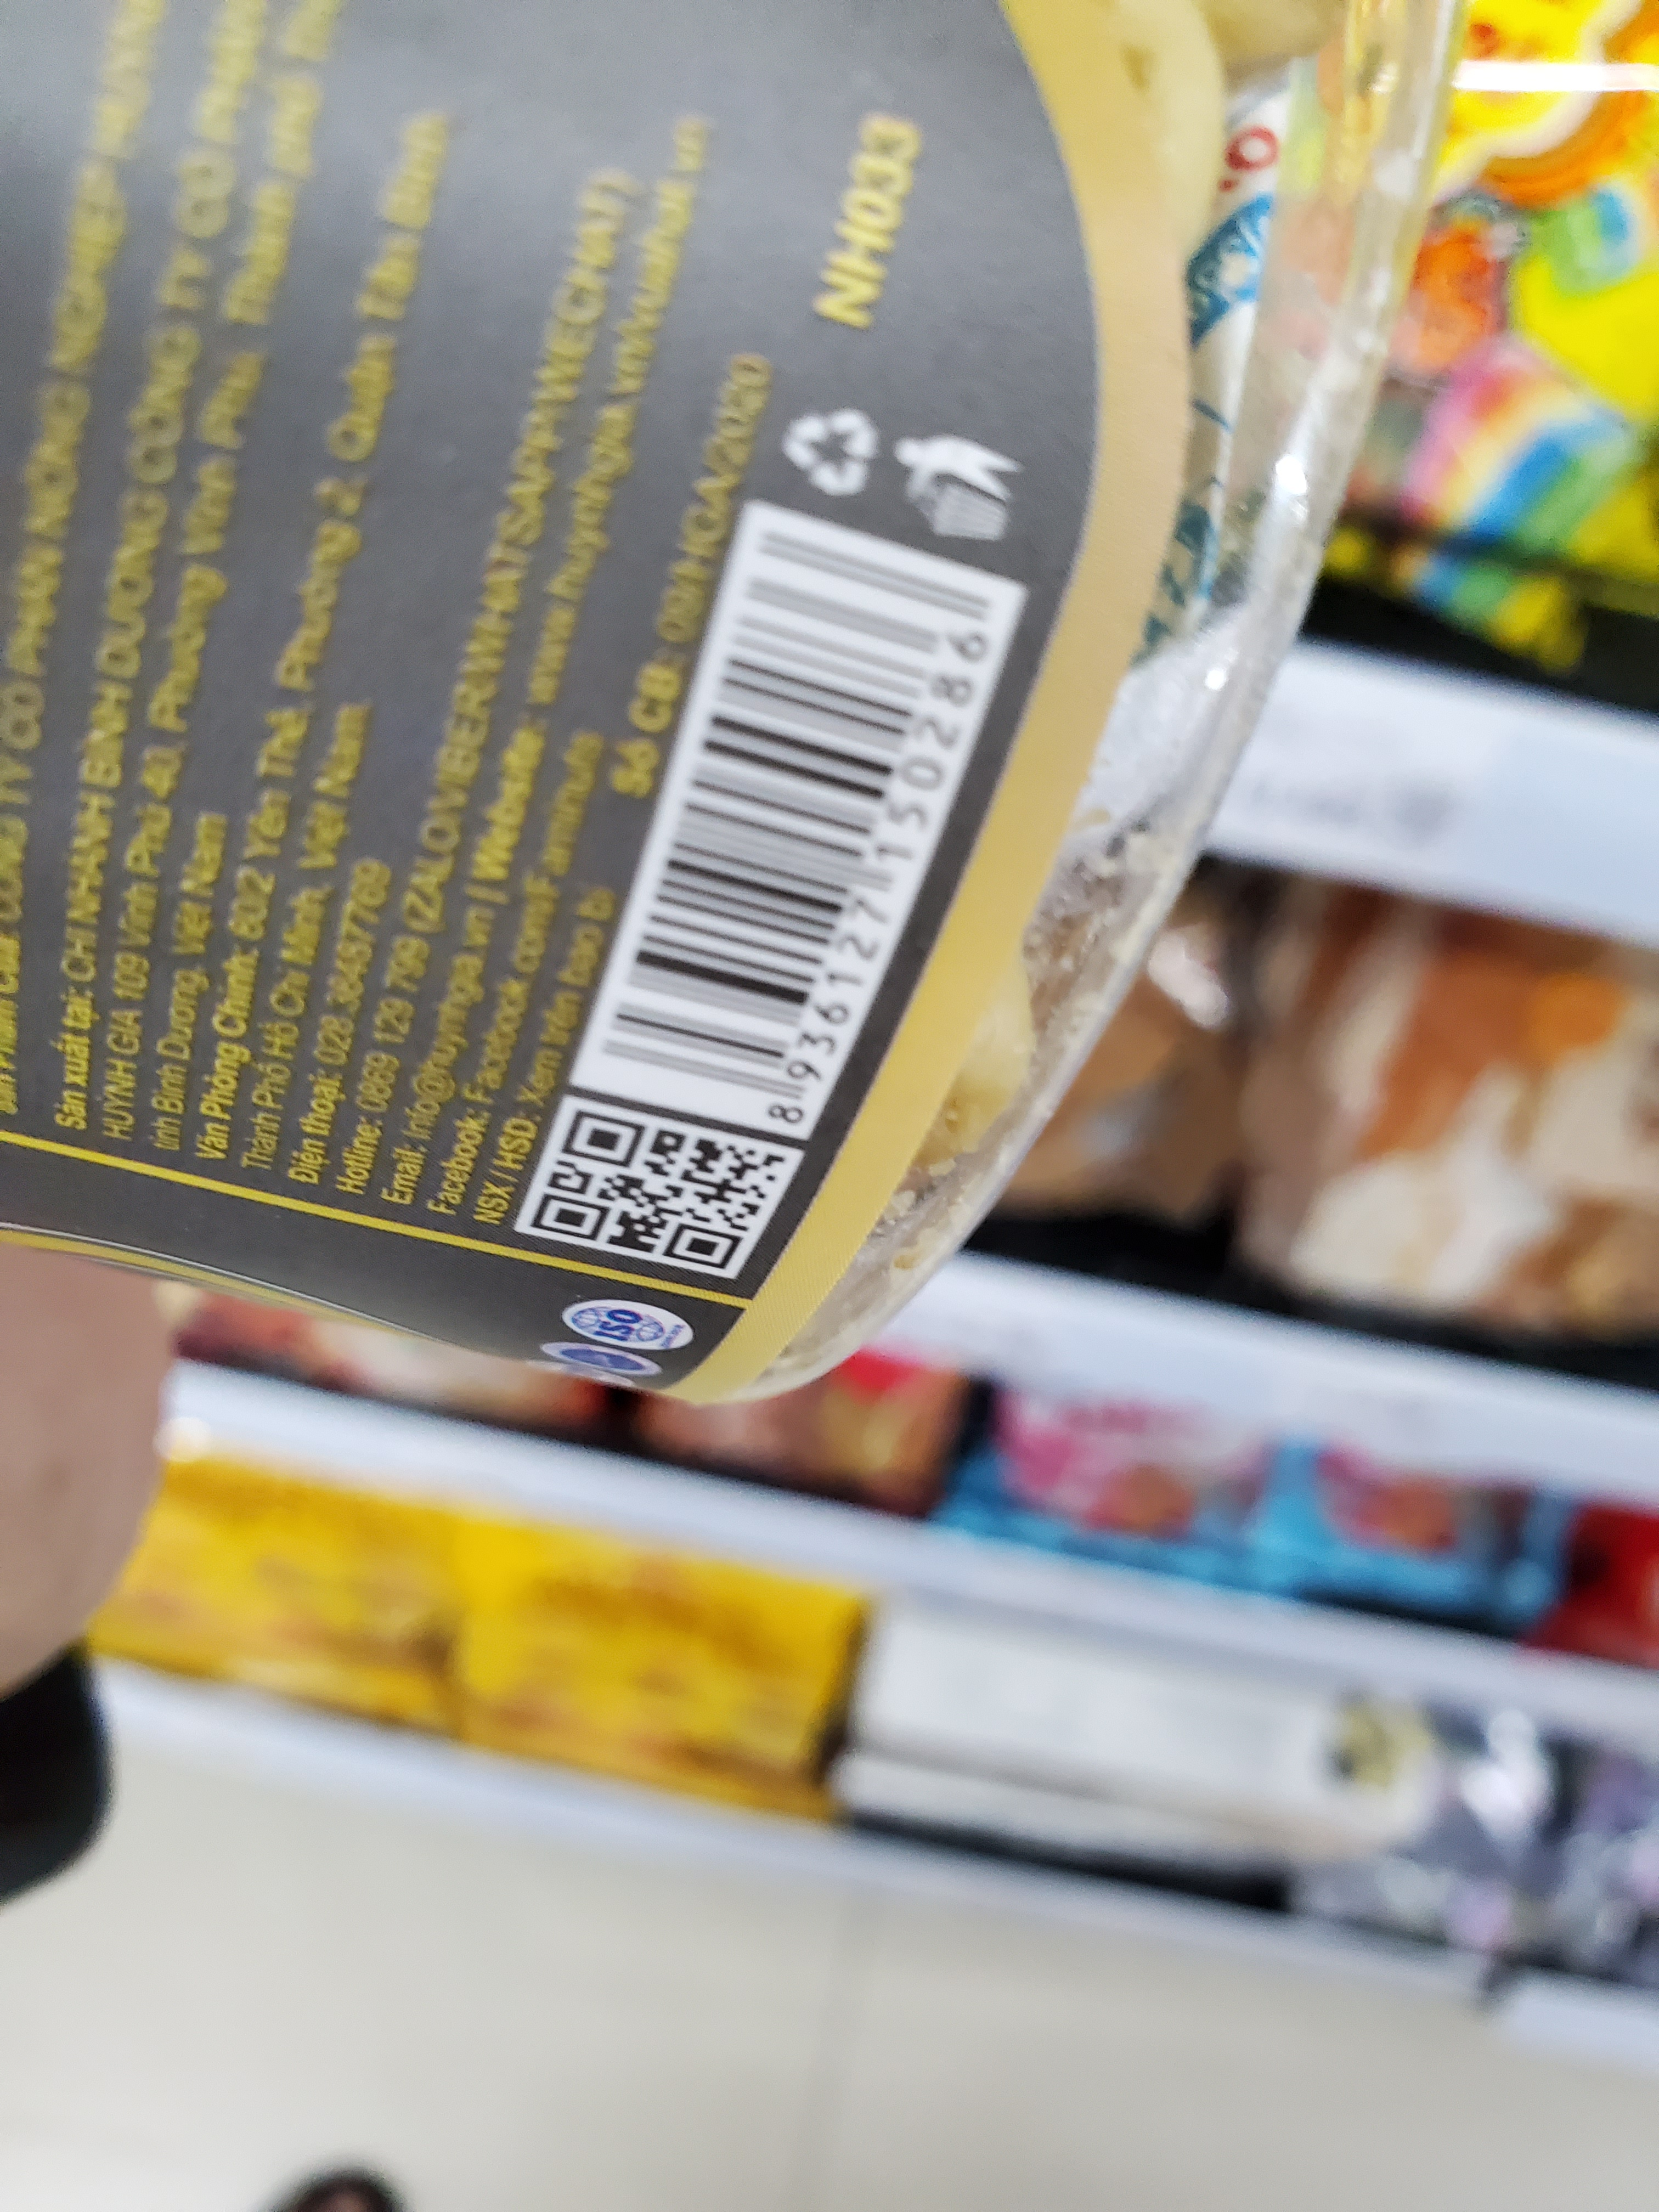BARCODE: (512, 491, 1134, 1111)
QR CODE: (502, 1022, 802, 1322)
